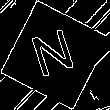N_S: (28, 24, 82, 86)
